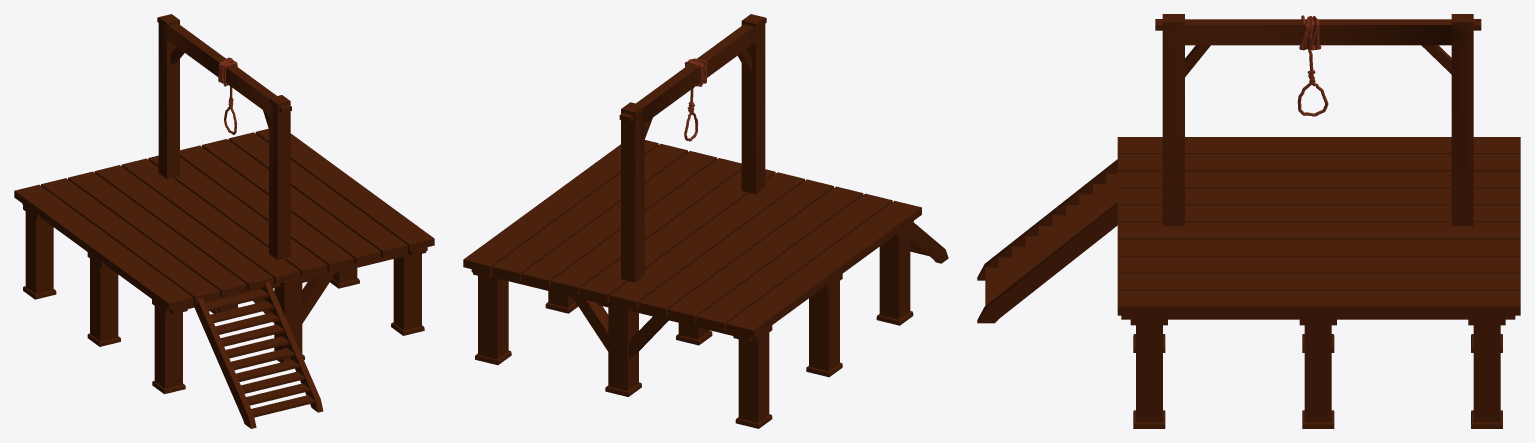
The model's file is medieval-gallows.glb.
3 views of the same model, side by side, from view 1: azimuth 30°, elevation 25°; view 2: azimuth 150°, elevation 25°; view 3: azimuth 270°, elevation 25° (orthographic). The views are drawn at different scales.
Visible parts, largest first — view 1: Platform, Stands, Stand, Stairs, Rope; view 2: Platform, Stands, Stand, Stairs, Rope; view 3: Platform, Stand, Stands, Stairs, Rope.
Part boxes in pixels (x1=…): Platform: x1=14, y1=128, x2=434, y2=310; Stands: x1=22, y1=203, x2=427, y2=394; Stand: x1=157, y1=14, x2=291, y2=259; Stairs: x1=193, y1=281, x2=323, y2=428; Rope: x1=218, y1=57, x2=237, y2=134; Platform: x1=463, y1=140, x2=921, y2=337; Stands: x1=471, y1=221, x2=913, y2=428; Stand: x1=619, y1=14, x2=766, y2=282; Stairs: x1=910, y1=222, x2=948, y2=263; Rope: x1=684, y1=58, x2=706, y2=141; Platform: x1=1117, y1=137, x2=1520, y2=315; Stand: x1=1155, y1=14, x2=1481, y2=225; Stands: x1=1121, y1=315, x2=1515, y2=428; Stairs: x1=977, y1=159, x2=1117, y2=323; Rope: x1=1297, y1=15, x2=1328, y2=116.
Size of the model in its own units: 5.71 by 5.17 by 7.72.
